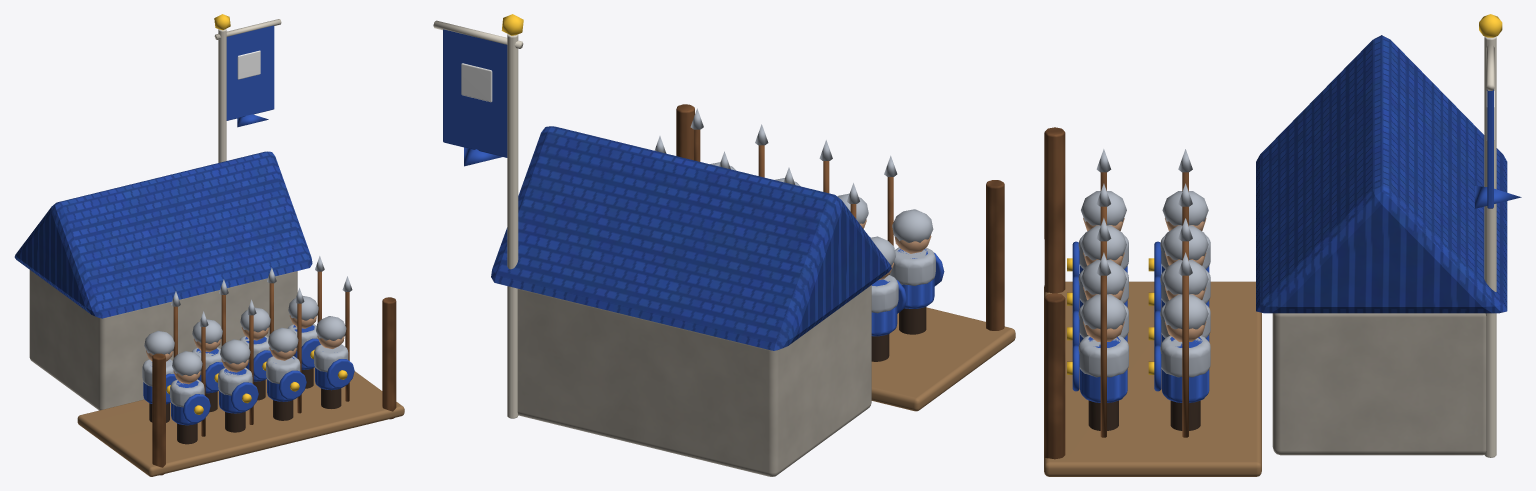
Rendered from barracks.glb.
The picture shows the model from 3 angles, left to right: view 1: azimuth 30°, elevation 25°; view 2: azimuth 150°, elevation 25°; view 3: azimuth 270°, elevation 25°; orthographic projection. The views are drawn at different scales.
Parts seen in each view (by area): view 1: house; view 2: house; view 3: house.
Boxes of the visible parts, x1,y1,x2,y2 form: house: (14,14,404,476); house: (433,14,1015,476); house: (1044,14,1521,476).
Bounding box in the file's own units: 0.88 × 0.895 × 0.8776.
Materials: 3 (1 with a texture image).
